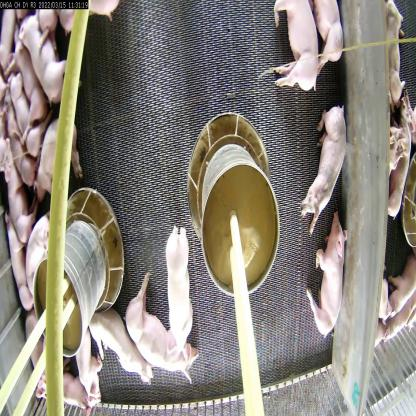Pig: (112, 276, 198, 396), (82, 309, 156, 407), (272, 0, 329, 111), (290, 117, 348, 214), (28, 113, 84, 211), (307, 209, 345, 350), (18, 210, 60, 314), (155, 217, 193, 331), (22, 20, 61, 92), (310, 0, 352, 63)
